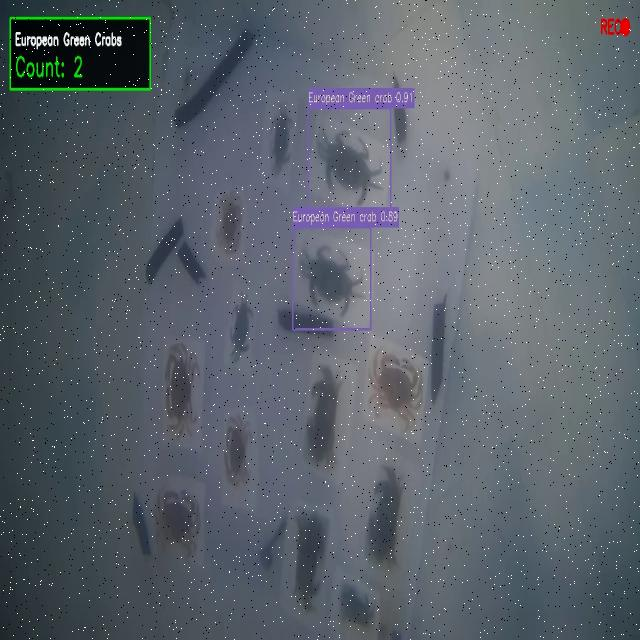European_Green_Crab: (308, 107, 389, 218), (298, 229, 369, 324), (221, 286, 259, 368), (265, 94, 295, 185)
